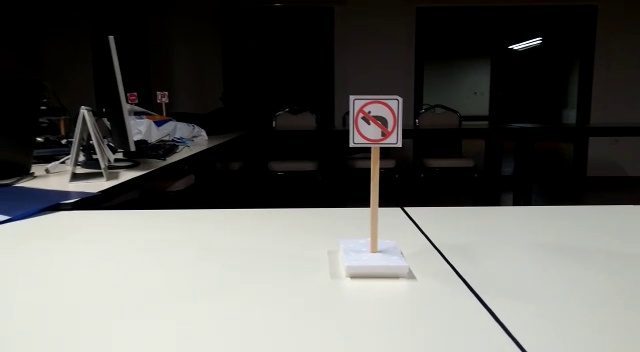sola_donulmez: (353, 96, 399, 147)
